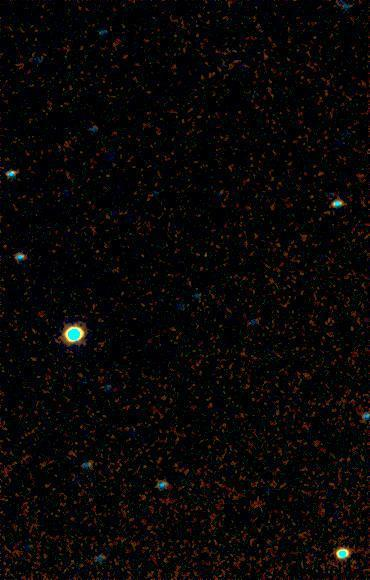star: (307, 157, 337, 187)
